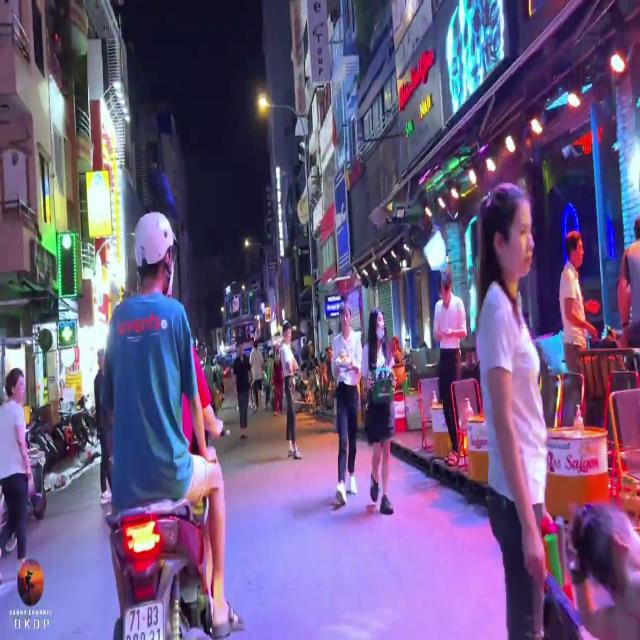bien_trang: (124, 599, 167, 640)
